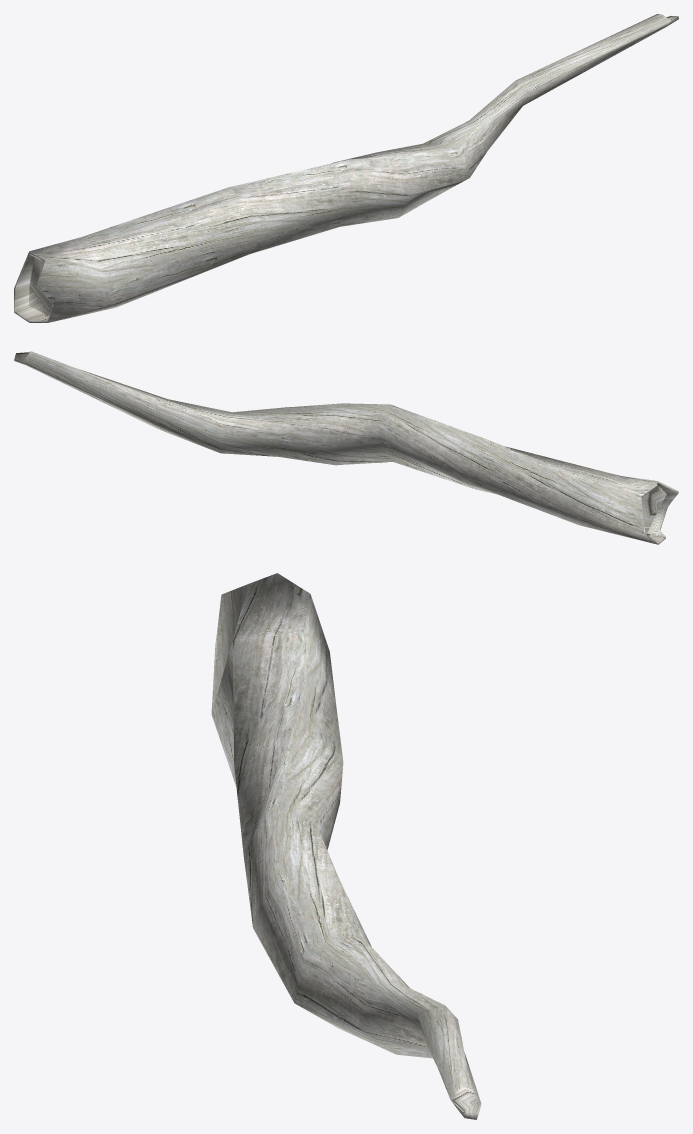
File: shor_driftwood_a3_l0.fbx
3 views of the same model, one above another, from view 1: azimuth 30°, elevation 25°; view 2: azimuth 150°, elevation 25°; view 3: azimuth 270°, elevation 25° (orthographic). The views are drawn at different scales.
Visible parts, largest first — view 1: mesh_node; view 2: mesh_node; view 3: mesh_node.
Part boxes in pixels (x1,y1,x2,y2): mesh_node: (14, 14, 678, 322); mesh_node: (14, 351, 678, 544); mesh_node: (211, 573, 481, 1119).
Size of the model in its own units: 7.01 by 0.9086 by 1.36.
